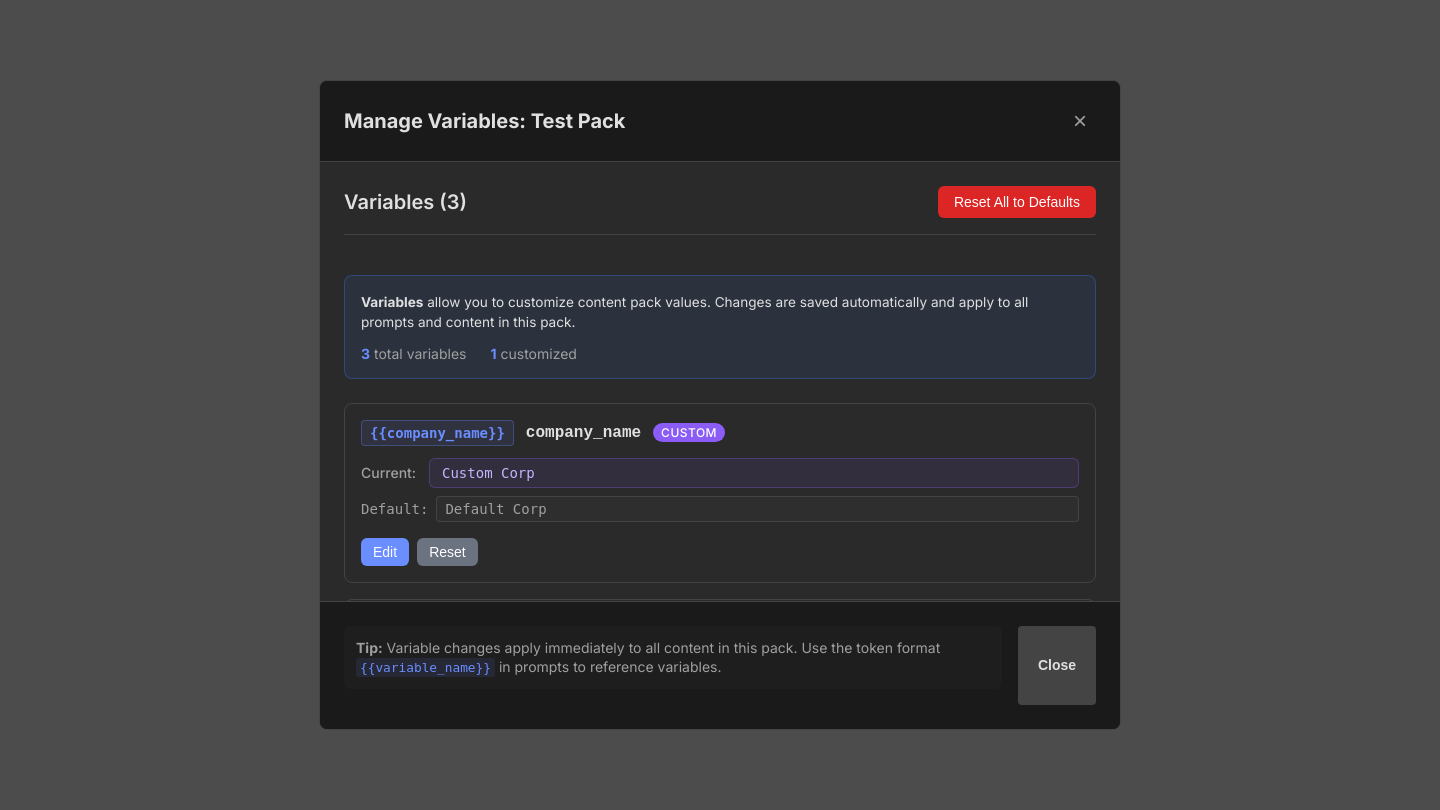
it: VariableManager › Error Handling › should handle save errors gracefully
This screenshot has width=1440, height=810.
Expected: the text "{{company_name}}" is shown, [361, 420, 514, 446]
// Then perform actions sequentially
Click the button "Edit": (385, 552) [361, 538, 409, 566]
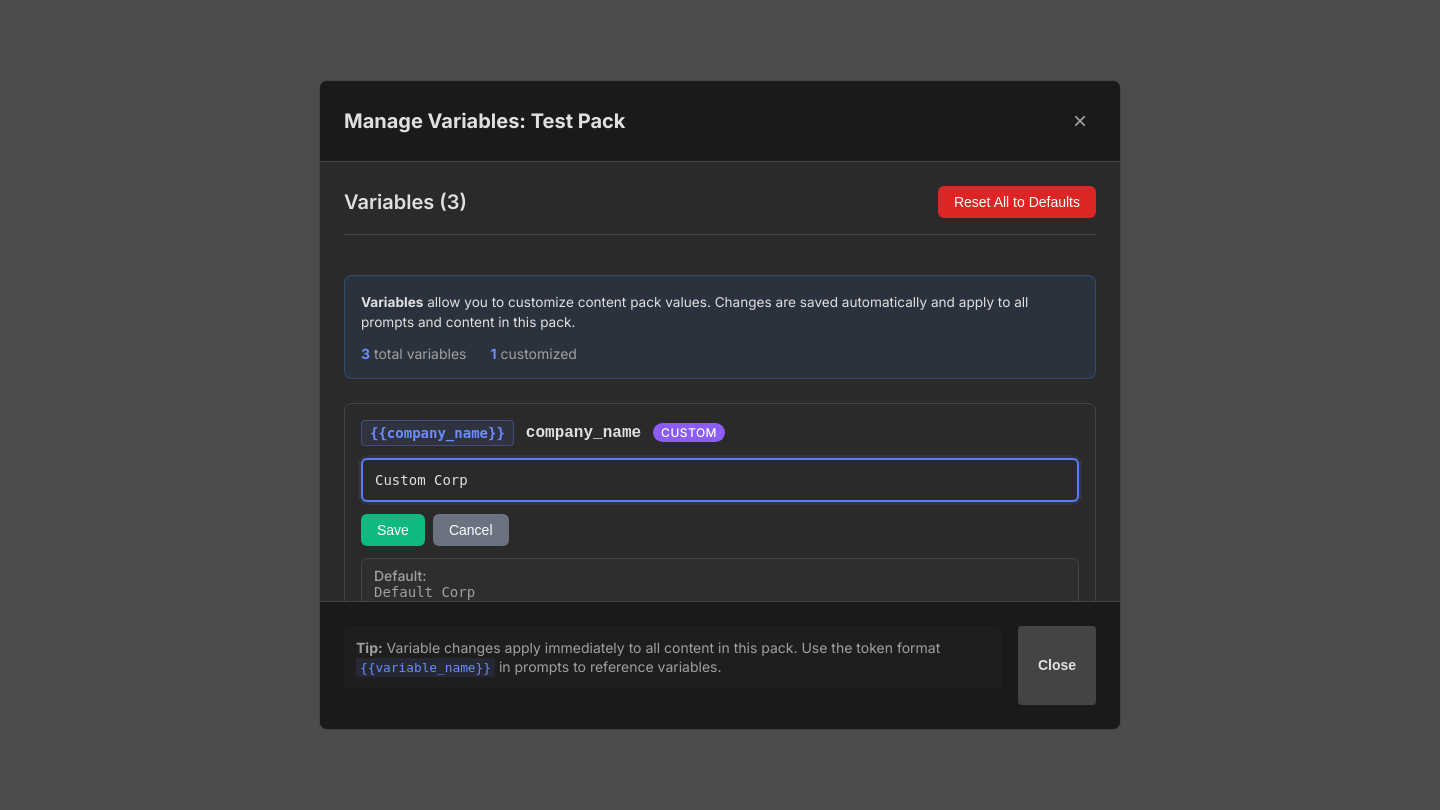
Replace the text in the field showing "Custom Corp" with "New Corp": (720, 480) [361, 458, 1079, 502]
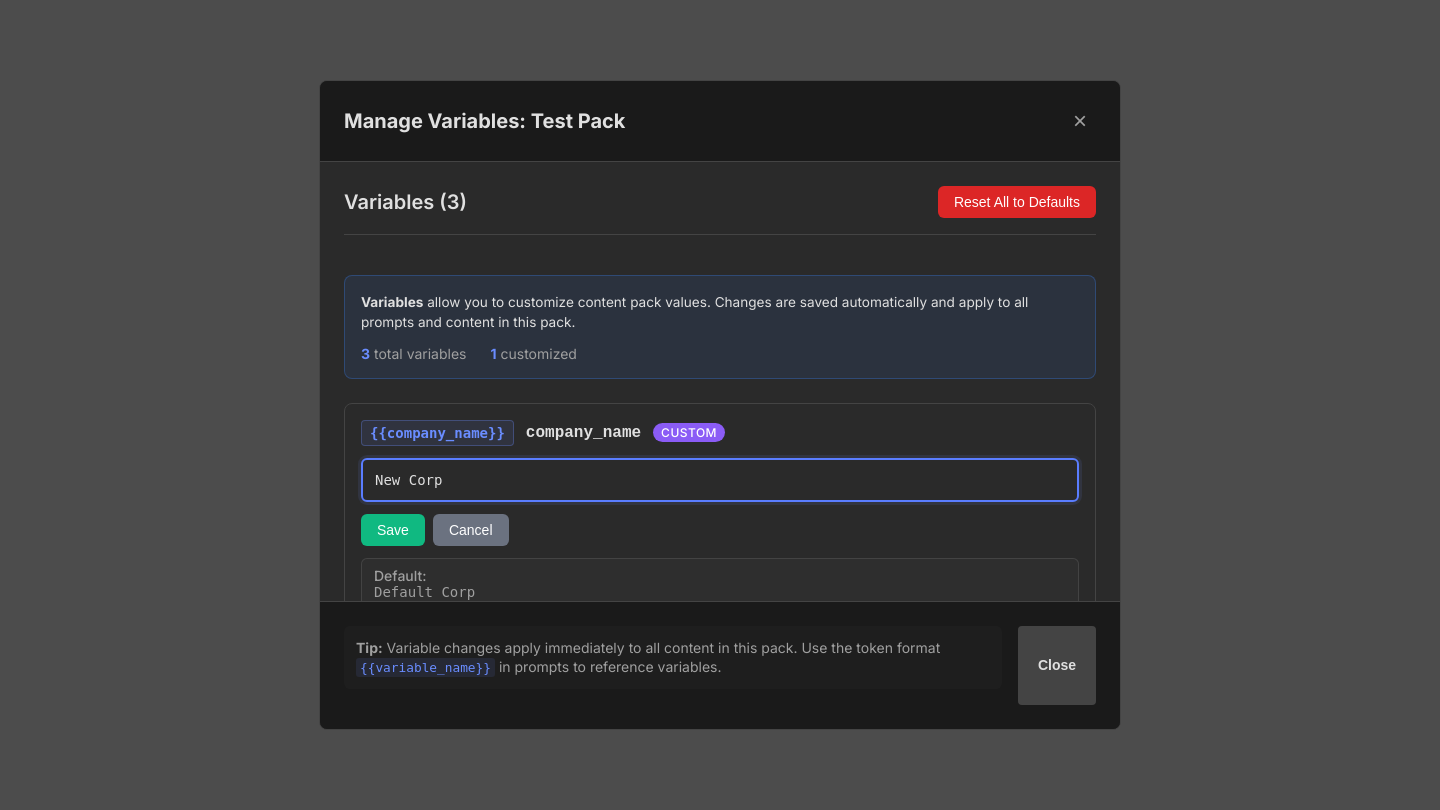
Click the button "Save": (393, 530) [361, 514, 425, 546]
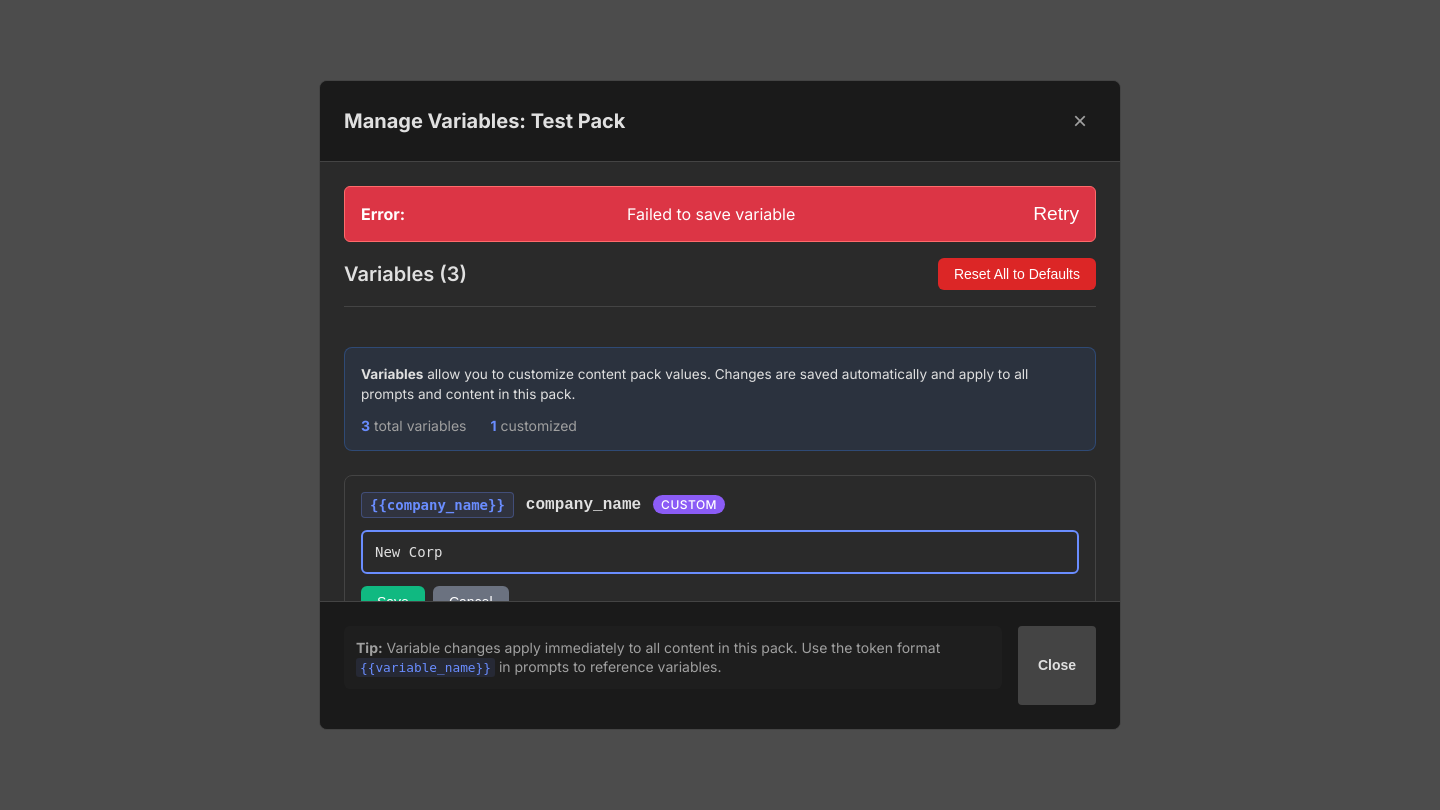
Expected: the text "Error:" is shown, [361, 204, 405, 224]
Expected: the text "Error: Failed to save variable Retry" is shown, [344, 186, 1096, 242]
